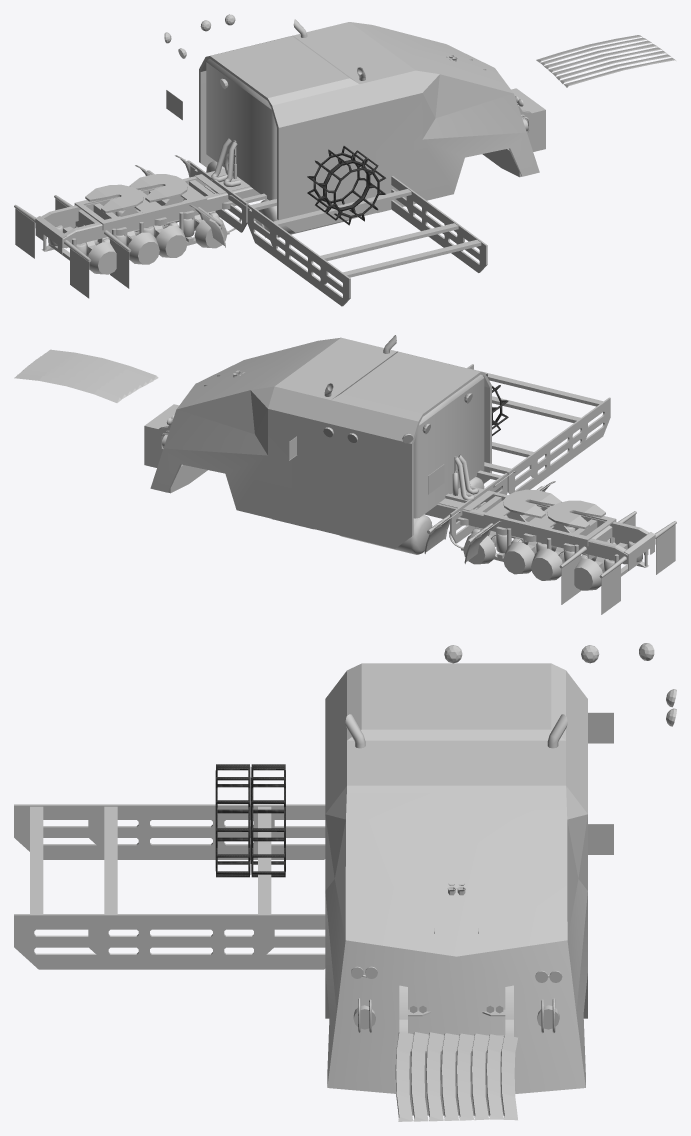
File: ATA_Petyarbuilt_body.fbx
3 views of the same model, one above another, from view 1: azimuth 30°, elevation 25°; view 2: azimuth 150°, elevation 25°; view 3: azimuth 270°, elevation 25° (orthographic). The views are drawn at different scales.
Parts seen in each view (by area): view 1: armor_sleeper, armor_right, body_long, body_short, armor_upper, truck_sleeper, armor_wheels2, armor_wheels1, 13_rearwArmor, chaintires, armor_benz, armor_front; view 2: armor_sleeper, armor_left, body_long, body_short, armor_upper, truck_sleeper, 13_rearwArmor, armor_wheels1, armor_wheels2, armor_benz, armor_front; view 3: armor_upper, armor_front, armor_wheels2, armor_sleeper, armor_wheels1, 13_rearwArmor, armor_right, armor_left, chaintires, armor_headlights, anim_leftArmor, anim_rightArmor (+1 smaller).
Boxes of the visible parts, box(x1,y1,x2,y2) form: armor_sleeper: box(199, 35, 366, 232); armor_right: box(360, 70, 539, 215); body_long: box(14, 19, 521, 298); body_short: box(54, 20, 519, 288); armor_upper: box(293, 22, 513, 93); truck_sleeper: box(206, 59, 276, 200); armor_wheels2: box(270, 187, 487, 306); armor_wheels1: box(247, 176, 464, 289); 13_rearwArmor: box(536, 35, 675, 87); chaintires: box(307, 146, 385, 225); armor_benz: box(190, 162, 266, 232); armor_front: box(511, 88, 545, 151); armor_sleeper: box(324, 351, 491, 548); armor_left: box(150, 386, 330, 531); body_long: box(324, 335, 676, 614); body_short: box(168, 336, 636, 604); armor_upper: box(177, 337, 396, 409); truck_sleeper: box(413, 374, 484, 518); 13_rearwArmor: box(14, 349, 158, 402); armor_wheels1: box(484, 396, 587, 493); armor_wheels2: box(467, 364, 610, 478); armor_benz: box(445, 470, 507, 543); armor_front: box(144, 404, 178, 467); armor_upper: box(345, 740, 567, 956); armor_front: box(327, 940, 585, 1115); armor_wheels2: box(14, 804, 274, 969); armor_sleeper: box(325, 663, 587, 768); armor_wheels1: box(88, 804, 325, 969); 13_rearwArmor: box(395, 1031, 517, 1121); armor_right: box(325, 741, 346, 1086); armor_left: box(566, 741, 587, 1087); chaintires: box(215, 764, 285, 877); armor_headlights: box(351, 966, 562, 1029); anim_leftArmor: box(588, 712, 613, 743); anim_rightArmor: box(588, 824, 613, 854).
Bounding box in the file's own units: 186 × 82.33 × 326.
